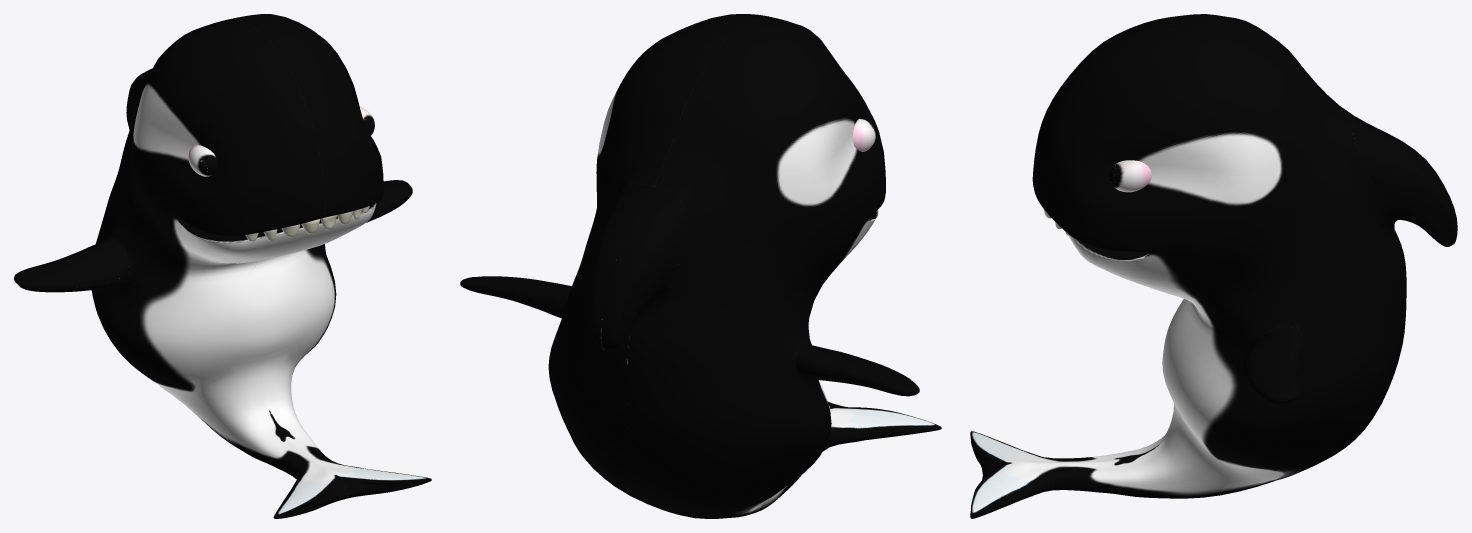
File: orca_cartoon.glb
The picture shows the model from 3 angles, left to right: view 1: azimuth 30°, elevation 25°; view 2: azimuth 150°, elevation 25°; view 3: azimuth 270°, elevation 25°; orthographic projection. The views are drawn at different scales.
Parts seen in each view (by area): view 1: orca cuerpo_0, dientes_1, ojos orca_2; view 2: orca cuerpo_0, ojos orca_2; view 3: orca cuerpo_0, ojos orca_2.
Part boxes in pixels (box(x1,y1,x2,y2)): orca cuerpo_0: box(14, 14, 431, 518); dientes_1: box(245, 206, 369, 241); ojos orca_2: box(188, 107, 374, 176); orca cuerpo_0: box(460, 14, 941, 518); ojos orca_2: box(853, 119, 875, 151); orca cuerpo_0: box(970, 14, 1457, 518); ojos orca_2: box(1108, 160, 1151, 192).
Bounding box in the file's own units: 5.4 × 5.37 × 5.16.
3 materials, 2 textured.
